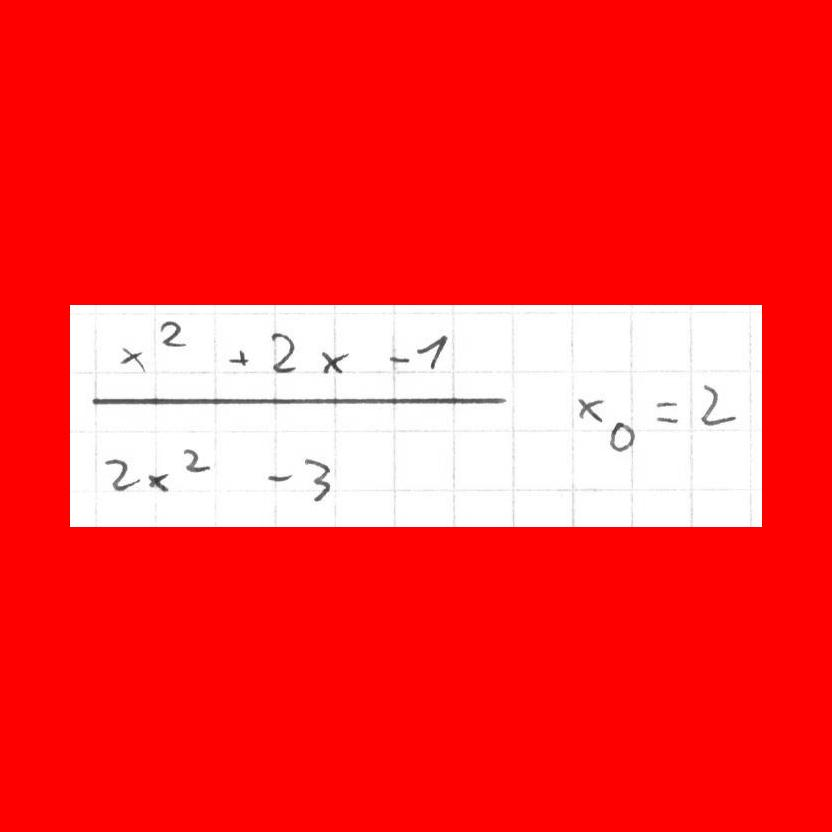Char: (82, 383, 519, 412), (699, 380, 739, 429), (412, 330, 452, 375), (265, 328, 301, 376), (101, 454, 141, 495), (301, 453, 332, 504), (315, 343, 354, 376), (605, 419, 641, 454), (155, 314, 188, 352), (573, 391, 605, 426), (116, 341, 149, 374), (141, 467, 177, 496), (178, 445, 211, 475), (653, 397, 681, 425), (223, 344, 251, 370), (385, 349, 411, 367), (262, 470, 295, 483)
